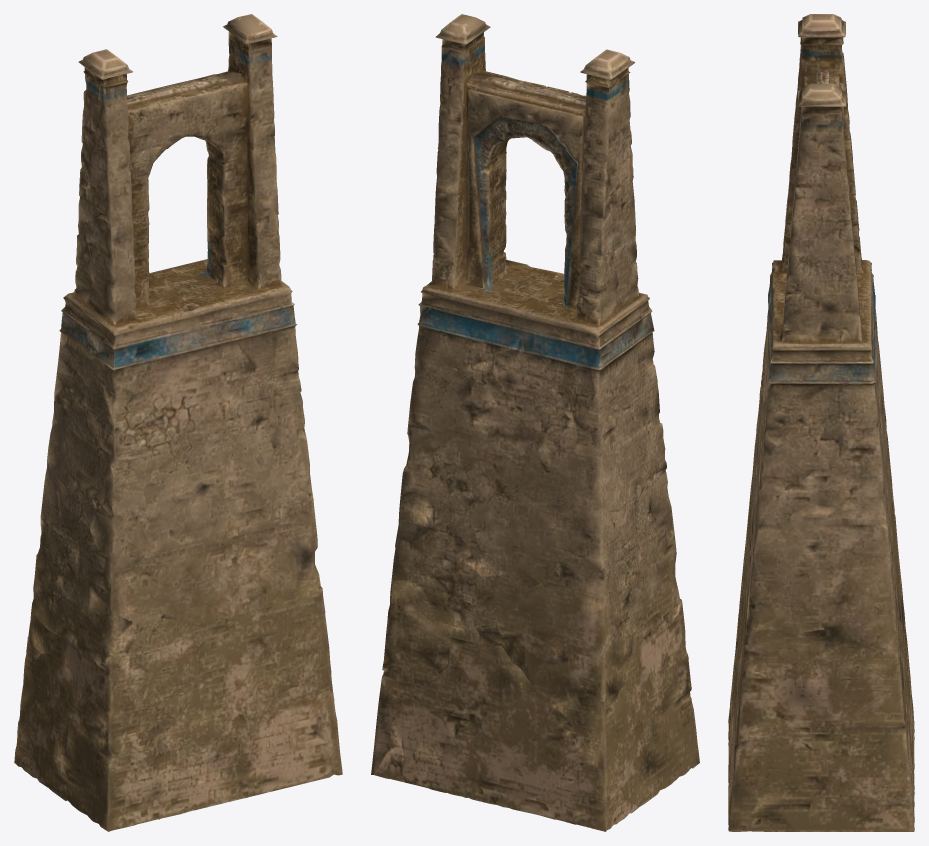
File: fortress-portal.glb
3 renders of one model, left to right at view 1: azimuth 30°, elevation 25°; view 2: azimuth 150°, elevation 25°; view 3: azimuth 270°, elevation 25°, orthographic.
Parts seen in each view (by area): view 1: DesertTemple_Portal_03_Structure_Source_Portal_03_0; view 2: DesertTemple_Portal_03_Structure_Source_Portal_03_0; view 3: DesertTemple_Portal_03_Structure_Source_Portal_03_0.
Boxes of the visible parts, box(x1,y1,x2,y2) form: DesertTemple_Portal_03_Structure_Source_Portal_03_0: box(14, 14, 342, 831); DesertTemple_Portal_03_Structure_Source_Portal_03_0: box(371, 14, 699, 831); DesertTemple_Portal_03_Structure_Source_Portal_03_0: box(728, 14, 914, 831).
Size of the model in its own units: 6.42 by 19.07 by 4.45.
1 material, 1 textured.
